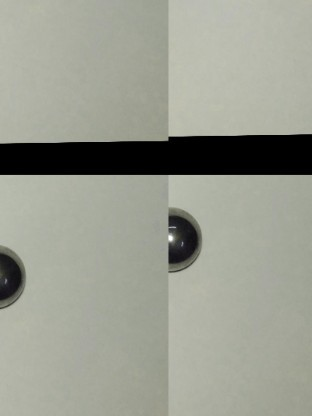ironball: (165, 201, 204, 274), (0, 241, 27, 312)
